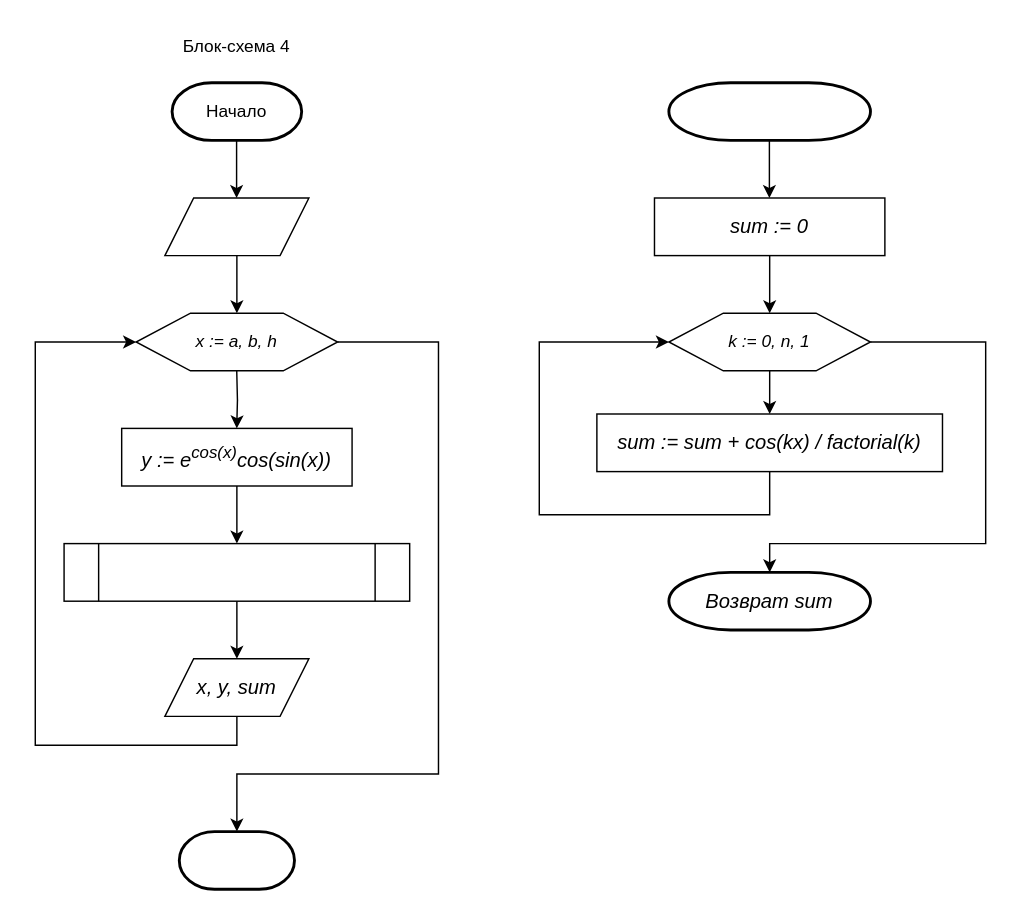
Image size: 1022x914. Some labels were removed from this diagram. The shapes that lost their labels are listed below. From the top down, each one's box as (x1, y1, x2, y2) in pixels, then its label:
(667, 81, 871, 141): calculateSum(x, n)
(163, 197, 309, 256): a, b, h, n
(63, 542, 410, 601): sum := calculateSum(x, n)
(177, 829, 295, 890): Конец
